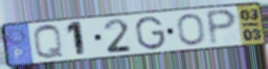1: (64, 20, 88, 58)
2: (102, 18, 133, 55)
G: (134, 15, 168, 52)
O: (175, 12, 208, 47)
P: (204, 7, 239, 47)
Q: (31, 23, 66, 62)
